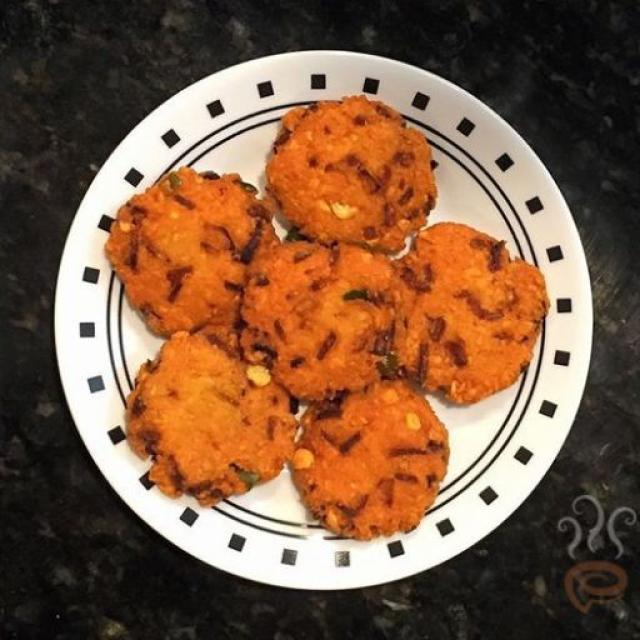dhal wade: (108, 322, 288, 490), (285, 376, 459, 544), (262, 92, 440, 246), (400, 225, 553, 397), (82, 169, 251, 320), (230, 236, 401, 384)
